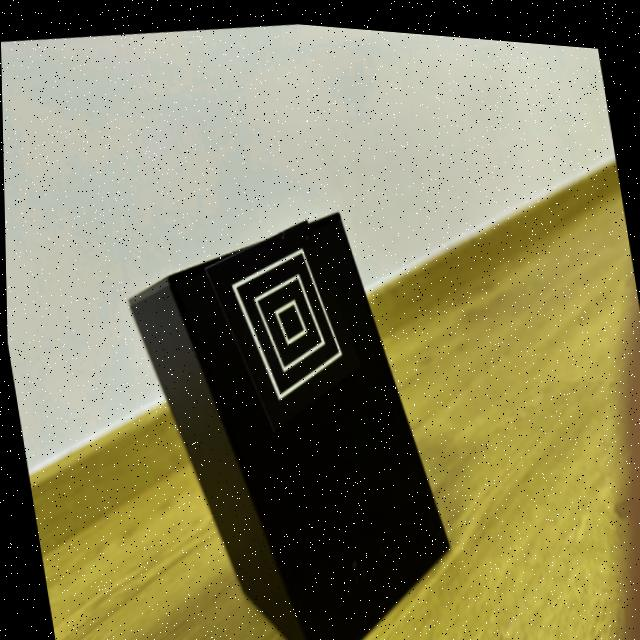BULLSEYE: (203, 214, 363, 429)
